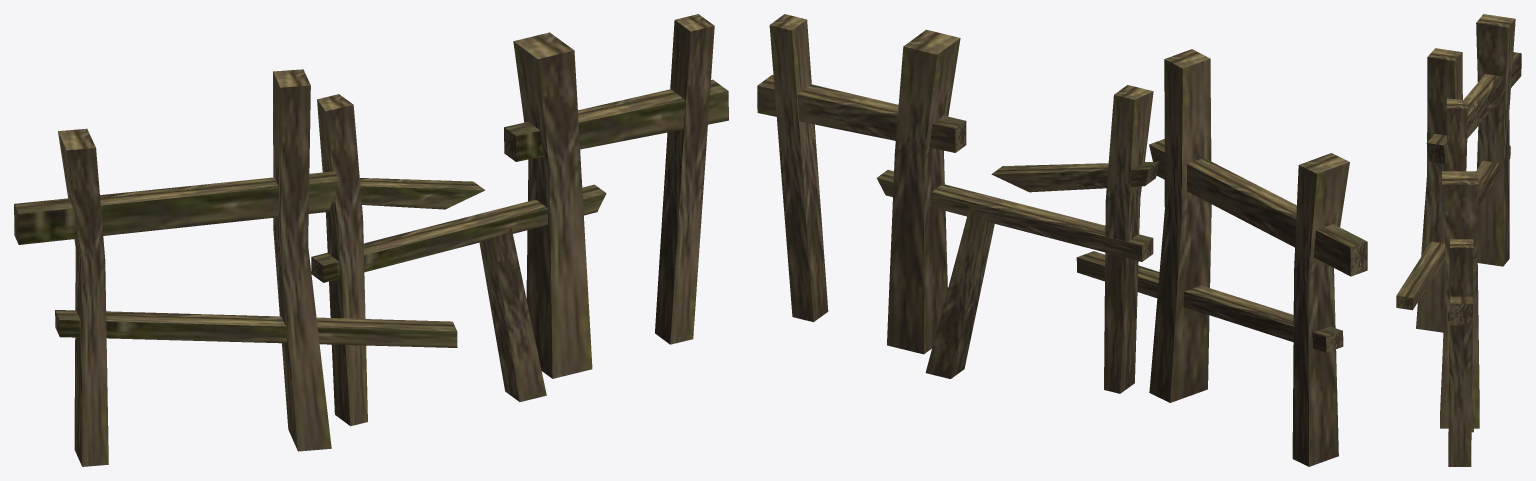
The model's file is S_Build_Village120.FBX.
The picture shows the model from 3 angles, left to right: view 1: azimuth 30°, elevation 25°; view 2: azimuth 150°, elevation 25°; view 3: azimuth 270°, elevation 25°; orthographic projection. The views are drawn at different scales.
Parts seen in each view (by area): view 1: S_Build_Village120; view 2: S_Build_Village120; view 3: S_Build_Village120.
Boxes of the visible parts, <box> form: S_Build_Village120: <box>14,14,728,466</box>; S_Build_Village120: <box>757,14,1367,466</box>; S_Build_Village120: <box>1396,14,1521,466</box>.
Bounding box in the file's own units: 336 × 73.54 × 183.
